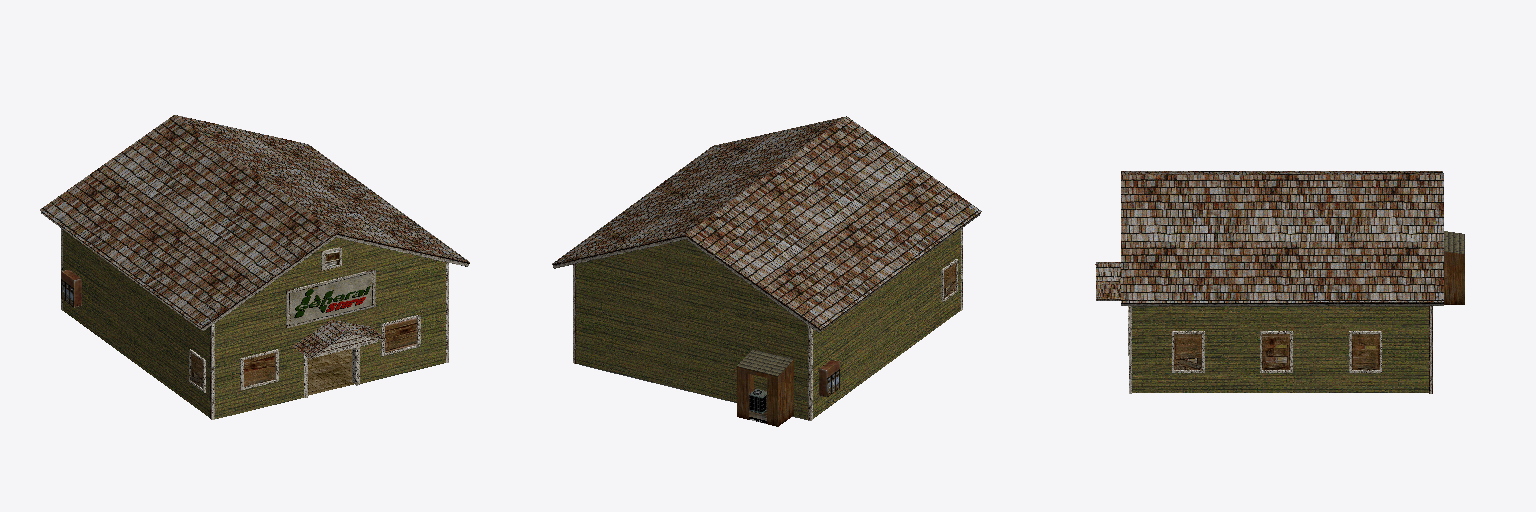
3 renders of one model, left to right at view 1: azimuth 30°, elevation 25°; view 2: azimuth 150°, elevation 25°; view 3: azimuth 270°, elevation 25°, orthographic.
Parts seen in each view (by area): view 1: Singenstoreext00-00.Singenstoreext00-00_Singenstoreext00-00.001, Plane; view 2: Singenstoreext00-00.Singenstoreext00-00_Singenstoreext00-00.001; view 3: Singenstoreext00-00.Singenstoreext00-00_Singenstoreext00-00.001.
Boxes of the visible parts, x1,y1,x2,y2 form: Singenstoreext00-00.Singenstoreext00-00_Singenstoreext00-00.001: [40, 115, 469, 419]; Plane: [308, 349, 354, 395]; Singenstoreext00-00.Singenstoreext00-00_Singenstoreext00-00.001: [552, 116, 981, 426]; Singenstoreext00-00.Singenstoreext00-00_Singenstoreext00-00.001: [1095, 171, 1464, 393].
Bounding box in the file's own units: 1.69 × 0.9731 × 2.
44 materials, 37 textured.